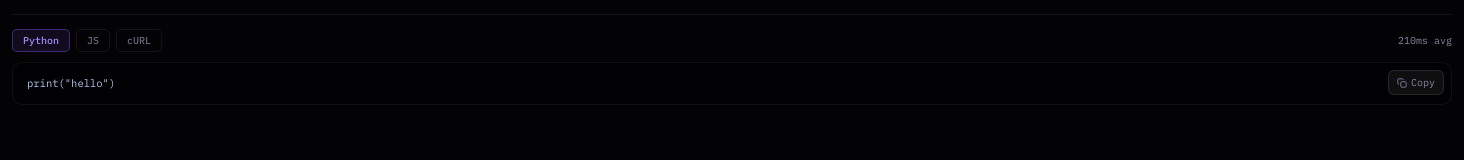
Test: CodeSnippet › switches to cURL when cURL tab is clicked
The width and height of the screenshot is (1464, 160).
Click the button "cURL". click: x=139, y=40
box: 116,29 -> 162,52
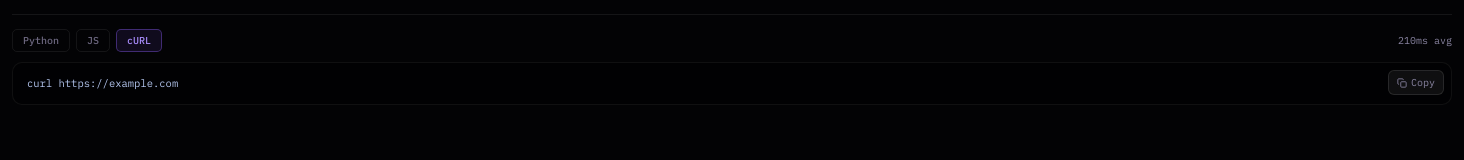
Expected: the text "curl https://example.com" is shown, 12,62 -> 1452,105
